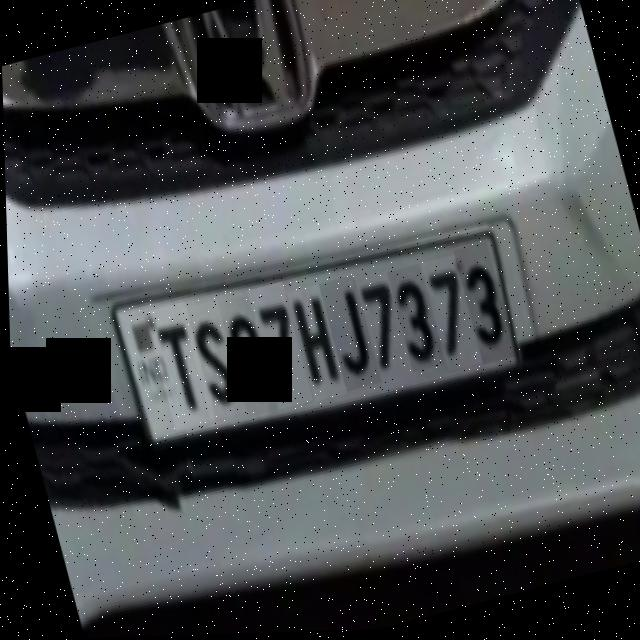0: (216, 295, 277, 419)
3: (451, 244, 514, 368), (385, 265, 444, 374)
7: (245, 282, 311, 413), (354, 272, 414, 390), (419, 257, 479, 374)
H: (284, 286, 345, 405)
J: (317, 276, 379, 395)
S: (179, 300, 244, 422)
T: (143, 302, 213, 432)
